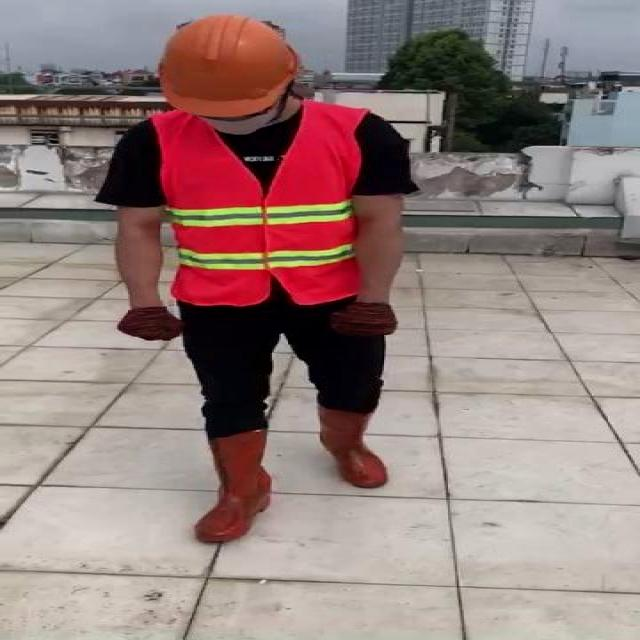boots: (194, 427, 276, 543), (318, 407, 388, 488)
hand_glove: (117, 308, 185, 343), (331, 303, 396, 336)
head_helmet: (154, 13, 298, 118)
person: (93, 14, 420, 550)
vest: (156, 103, 364, 308)
